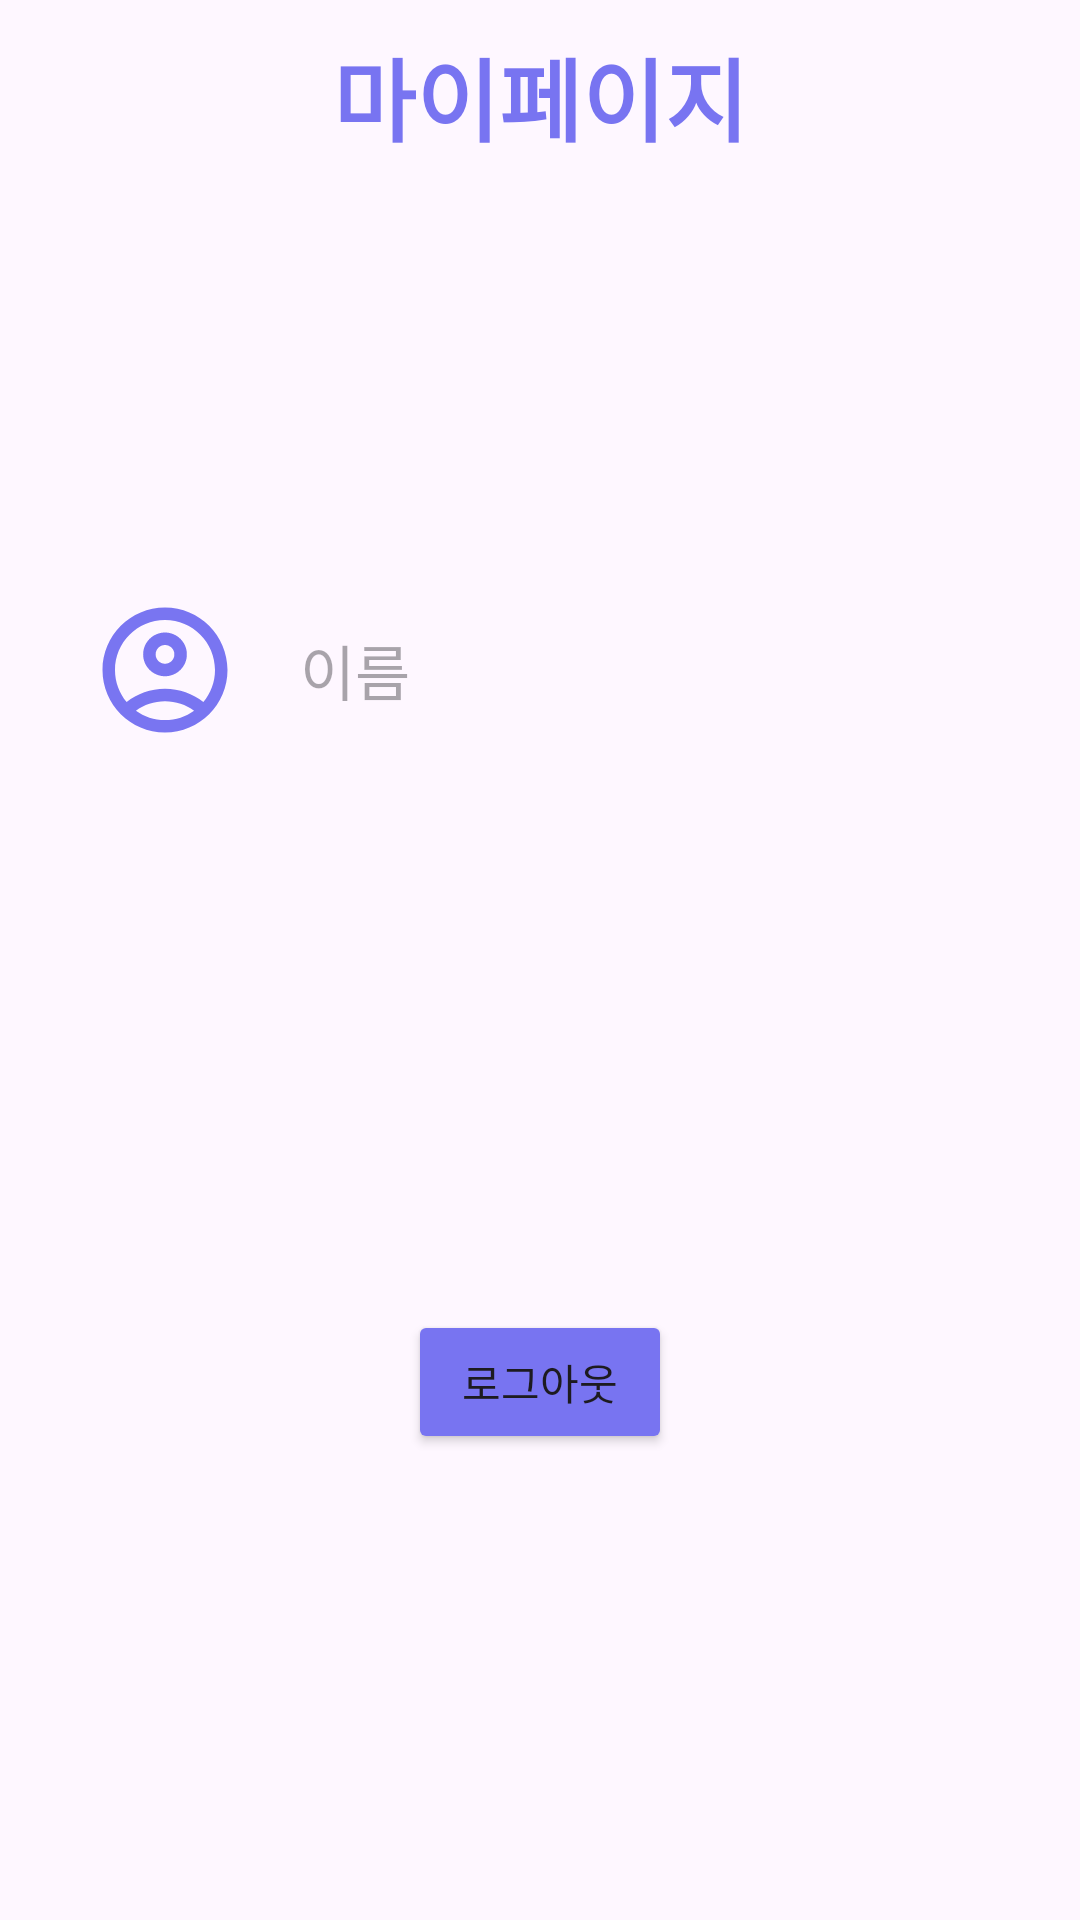

Icons on this 1080*1920 Android screen, each with the point to tap as (x,y):
account circle: (165,670)
